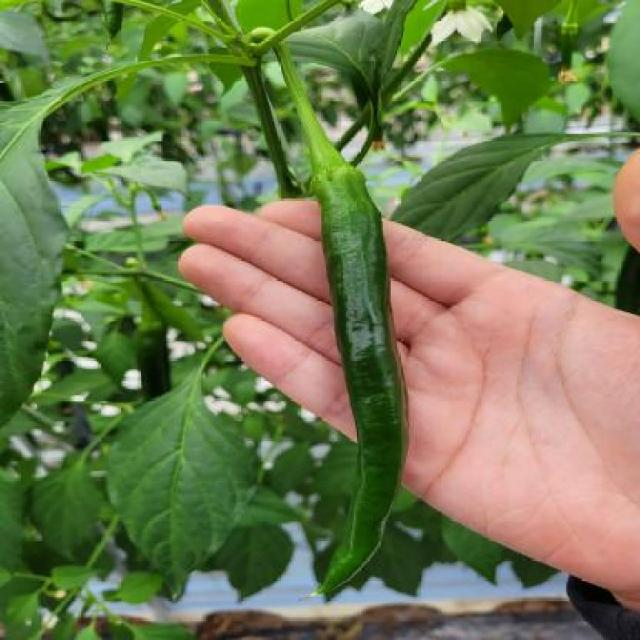green chilli: (310, 174, 408, 598)
